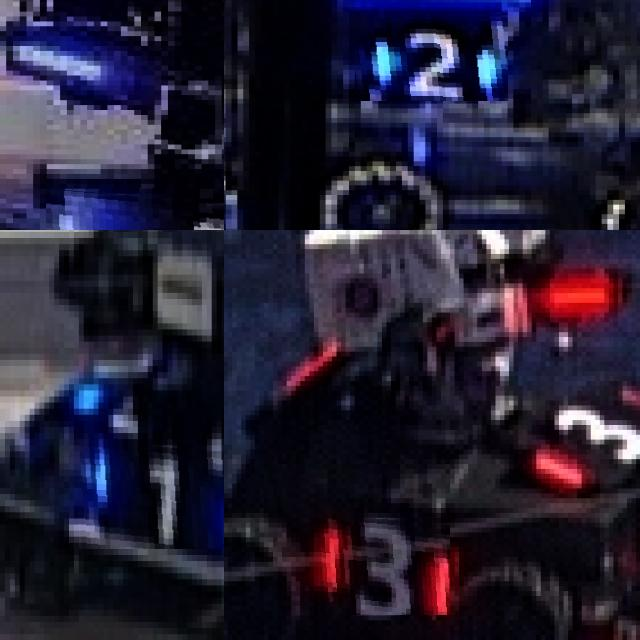B1: (73, 439, 224, 548)
B2: (349, 10, 508, 101)
B4: (46, 188, 224, 230)
R3: (314, 513, 450, 615)
